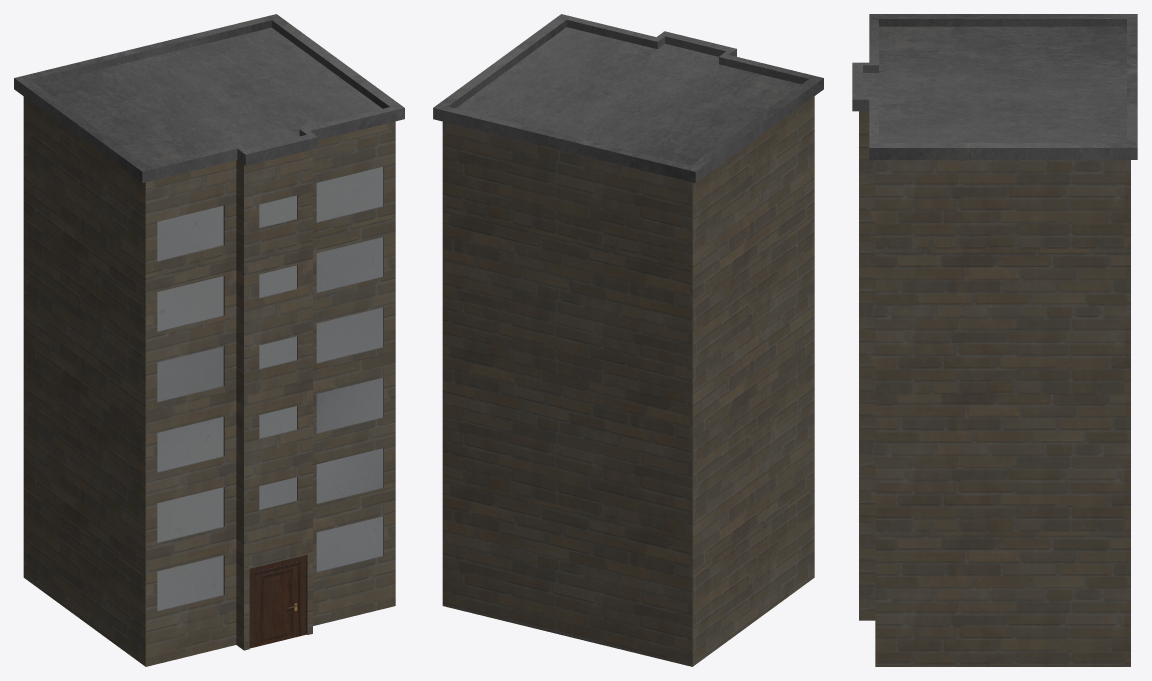
The model's file is TTBrickBuildingWoodenDoor.fbx.
The picture shows the model from 3 angles, left to right: view 1: azimuth 30°, elevation 25°; view 2: azimuth 150°, elevation 25°; view 3: azimuth 270°, elevation 25°; orthographic projection. The views are drawn at different scales.
Parts seen in each view (by area): view 1: Building Sky_big_color01; view 2: Building Sky_big_color01; view 3: Building Sky_big_color01.
Part boxes in pixels (left/top/right/bottom): Building Sky_big_color01: left=14, top=14, right=404, bottom=666; Building Sky_big_color01: left=433, top=14, right=823, bottom=666; Building Sky_big_color01: left=852, top=14, right=1137, bottom=666.
Bounding box in the file's own units: 1366 × 2480 × 1230.
Materials: 1 (1 with a texture image).
